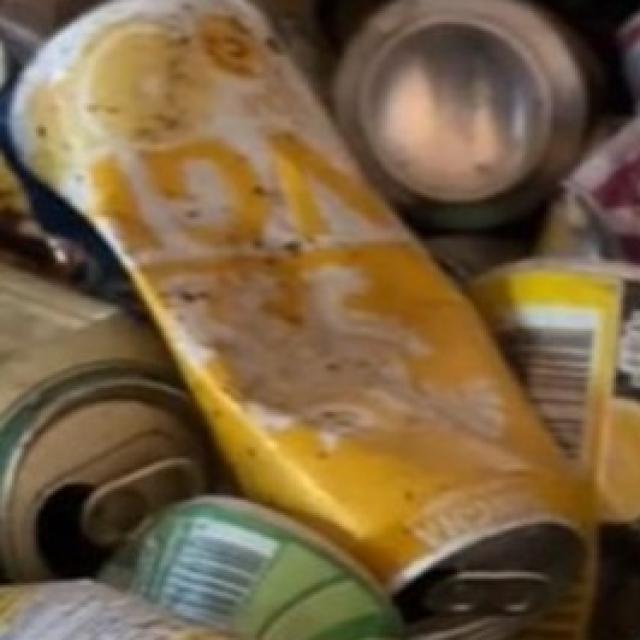can: (12, 0, 640, 631)
